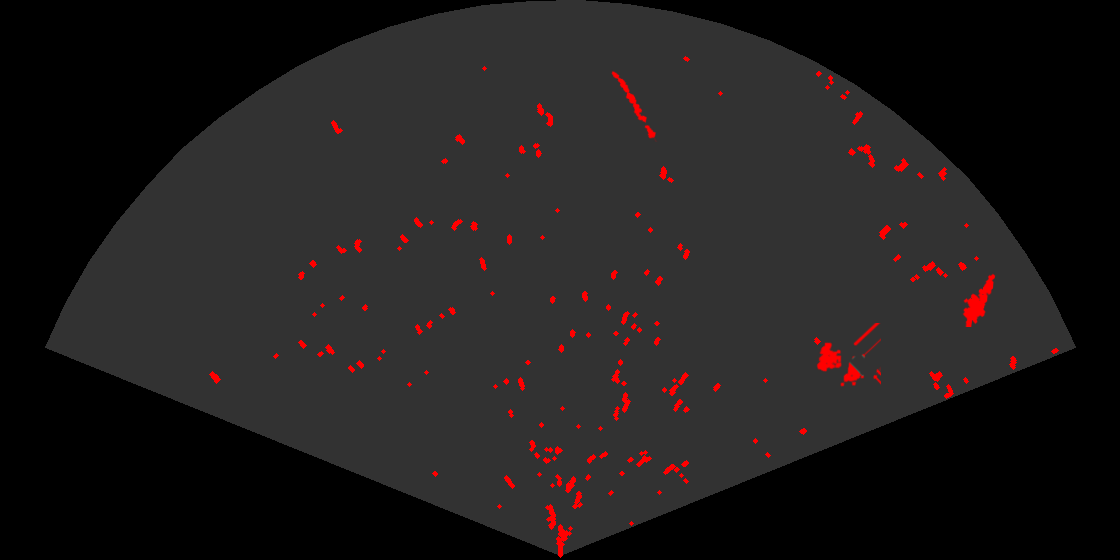cage: (815, 323, 881, 388)
chain: (610, 69, 659, 142)
frogman: (961, 272, 997, 327)
